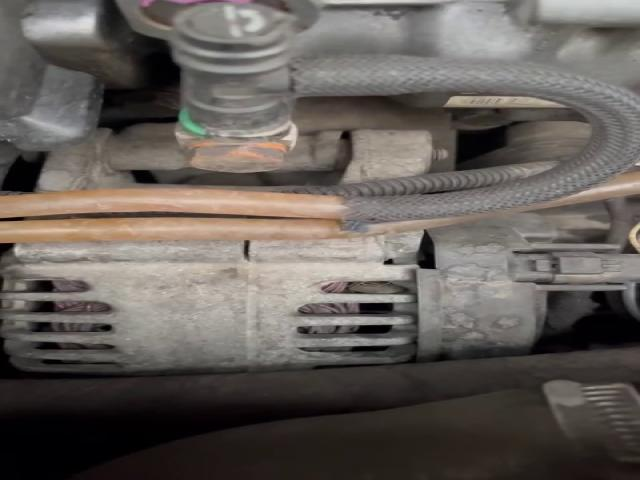alternator: (2, 232, 422, 375)
